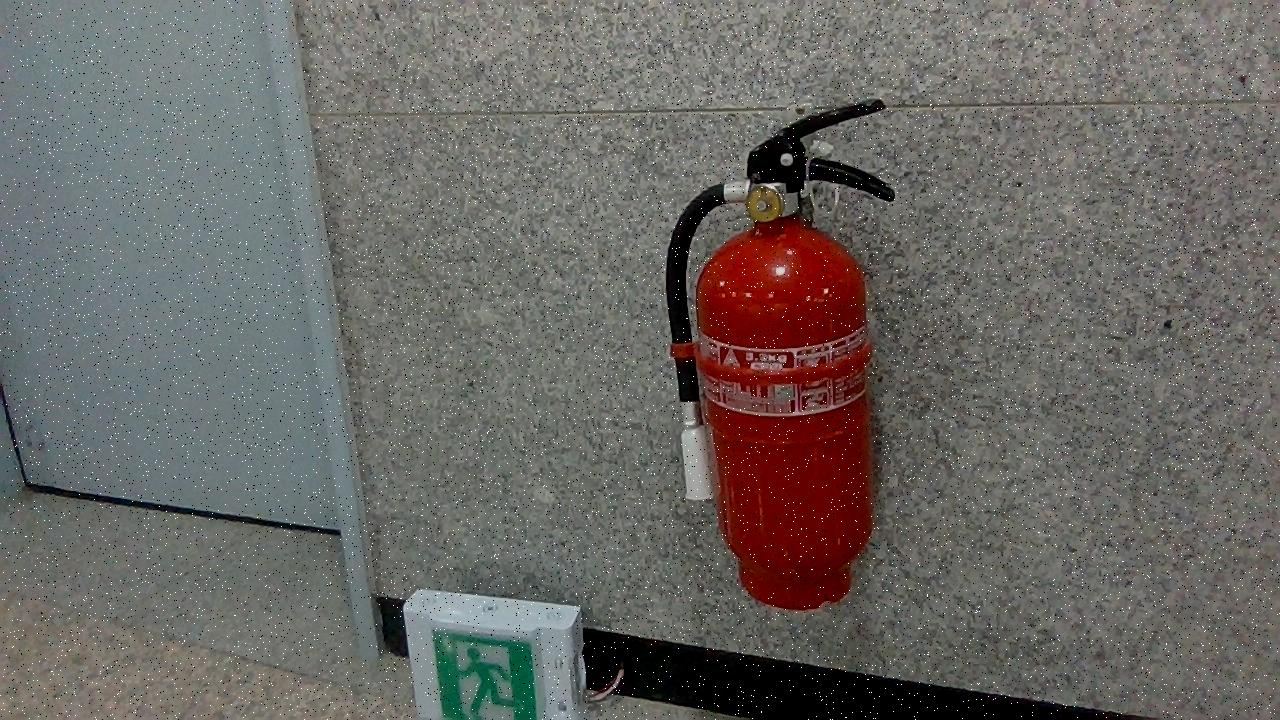emergency_exit: (665, 101, 897, 611), (401, 588, 587, 719)
